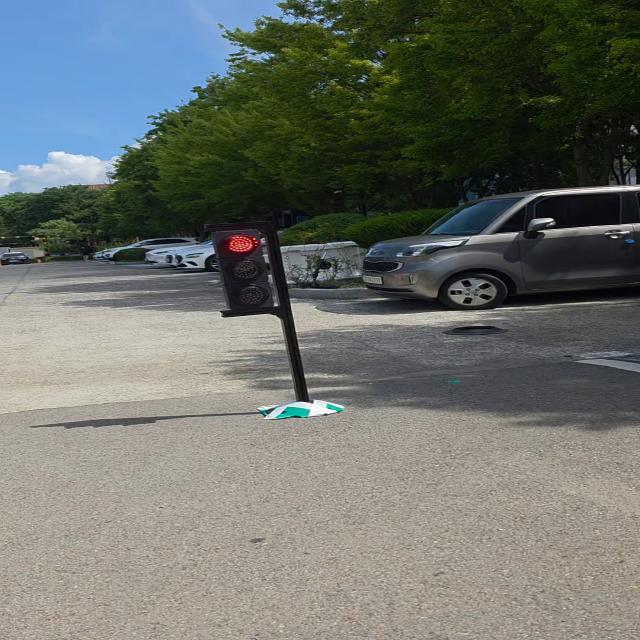red: (203, 224, 284, 318)
